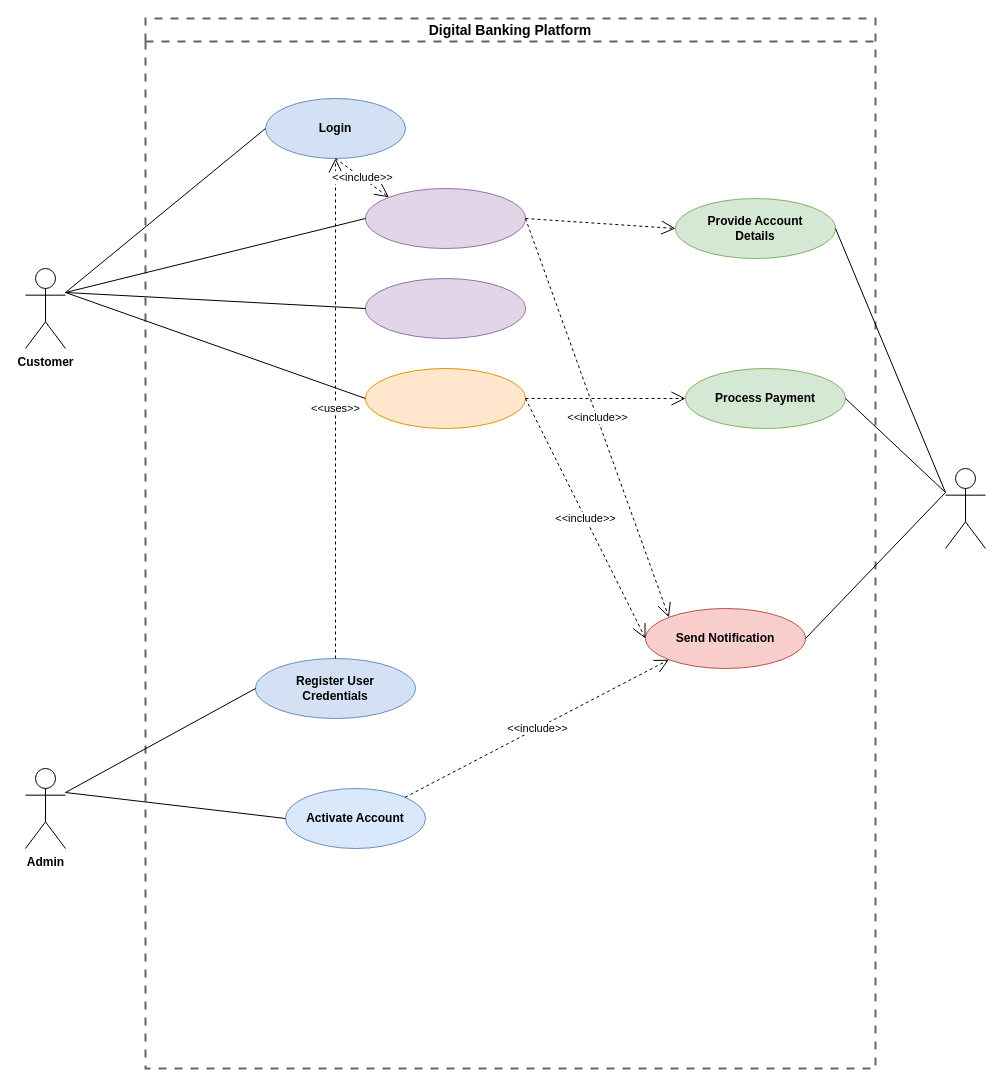
Some shapes in this 1007 by 1086 pixel diagram are drawn without their labels. The shapes that lost their labels are listed below. From the top down, each one's centre as x and y in pixels, then its label:
At [445,218]: "Submit KYC Registration".
At [445,308]: "Check Registration Status".
At [445,398]: "Initiate Payment".
At [965,508]: "External Systems".
